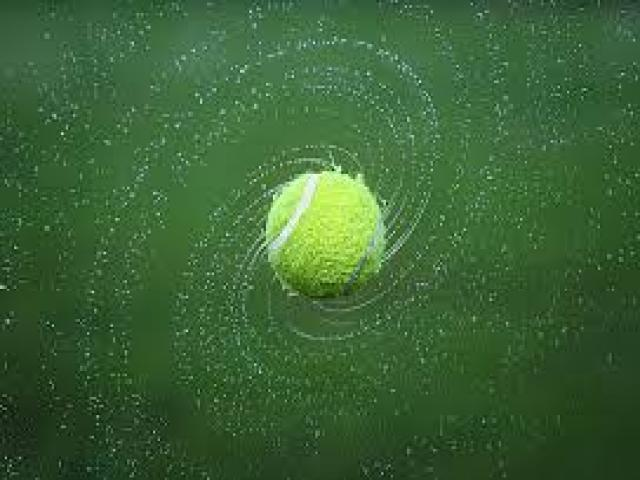tennis-ball: (264, 172, 386, 298)
